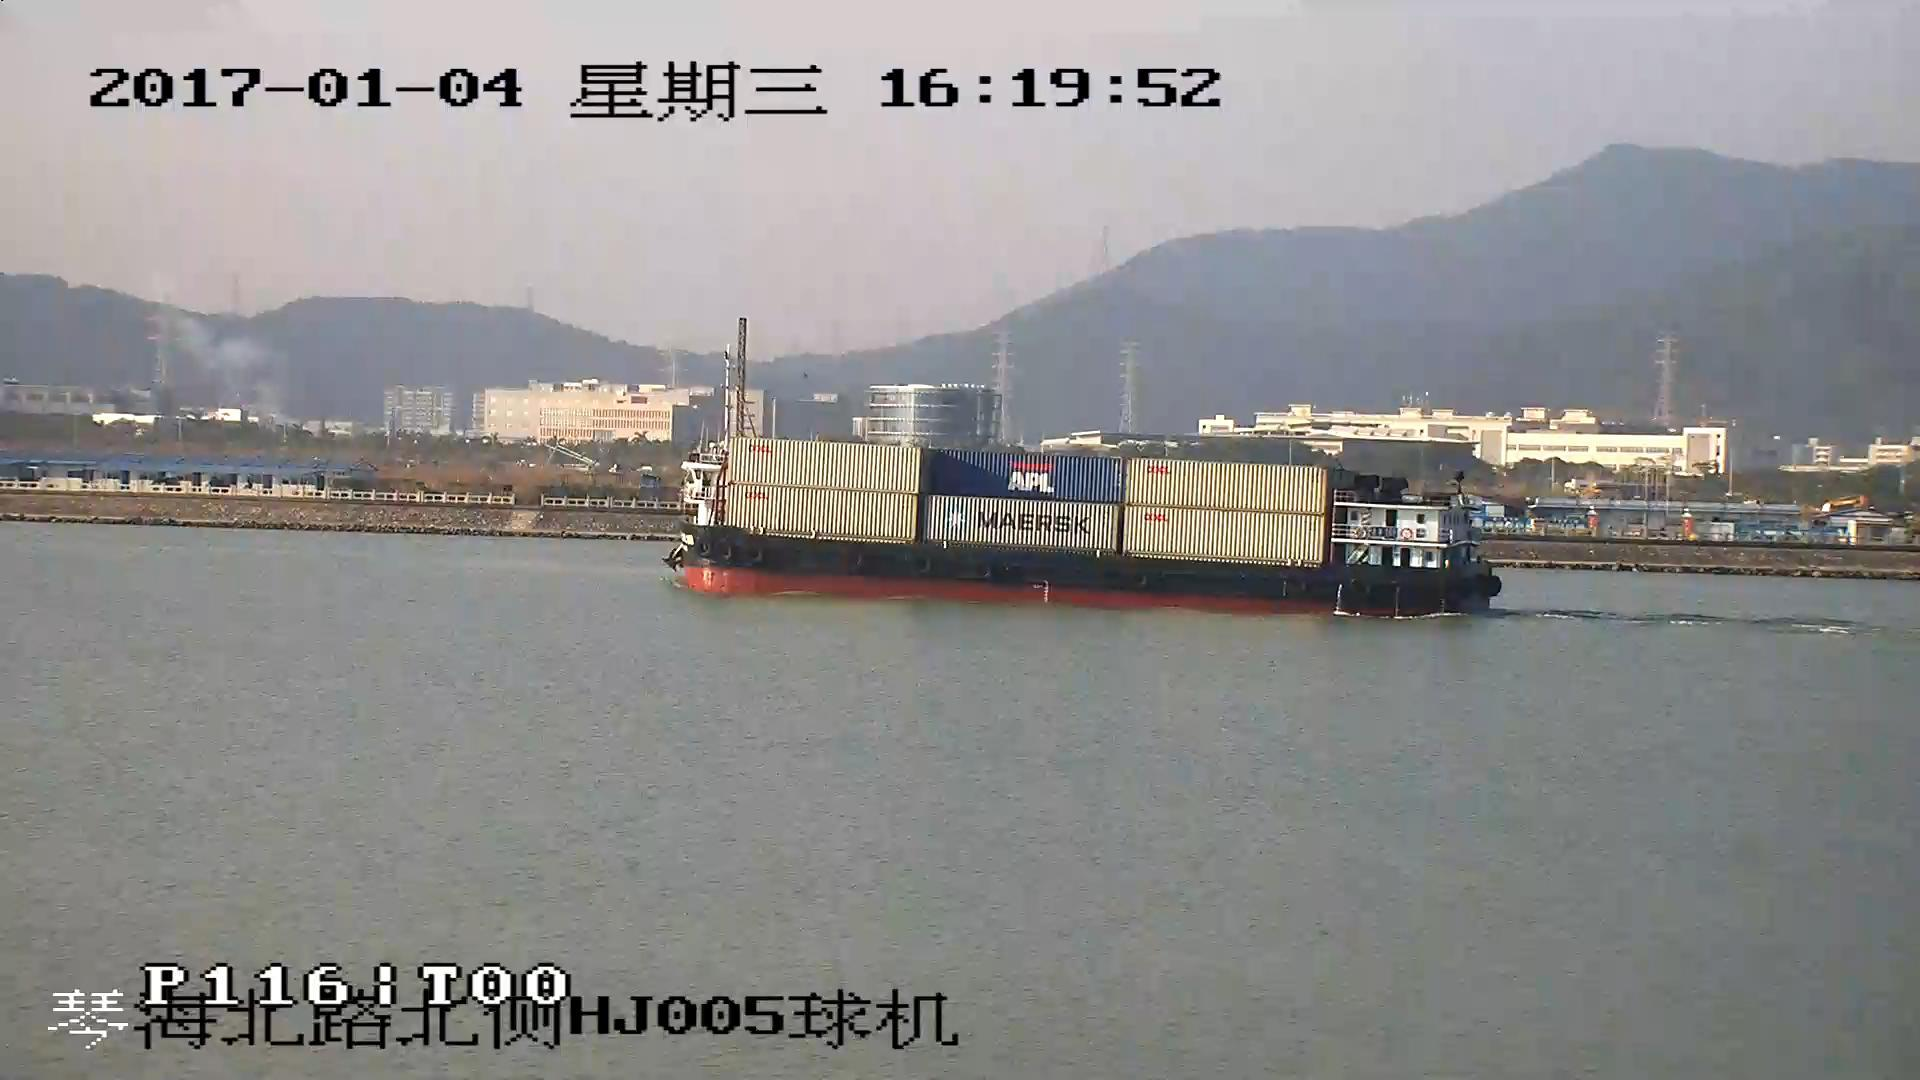Ship: (671, 434, 1501, 616)
